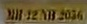character: (46, 9, 56, 21), (30, 10, 38, 20), (25, 10, 31, 20)
